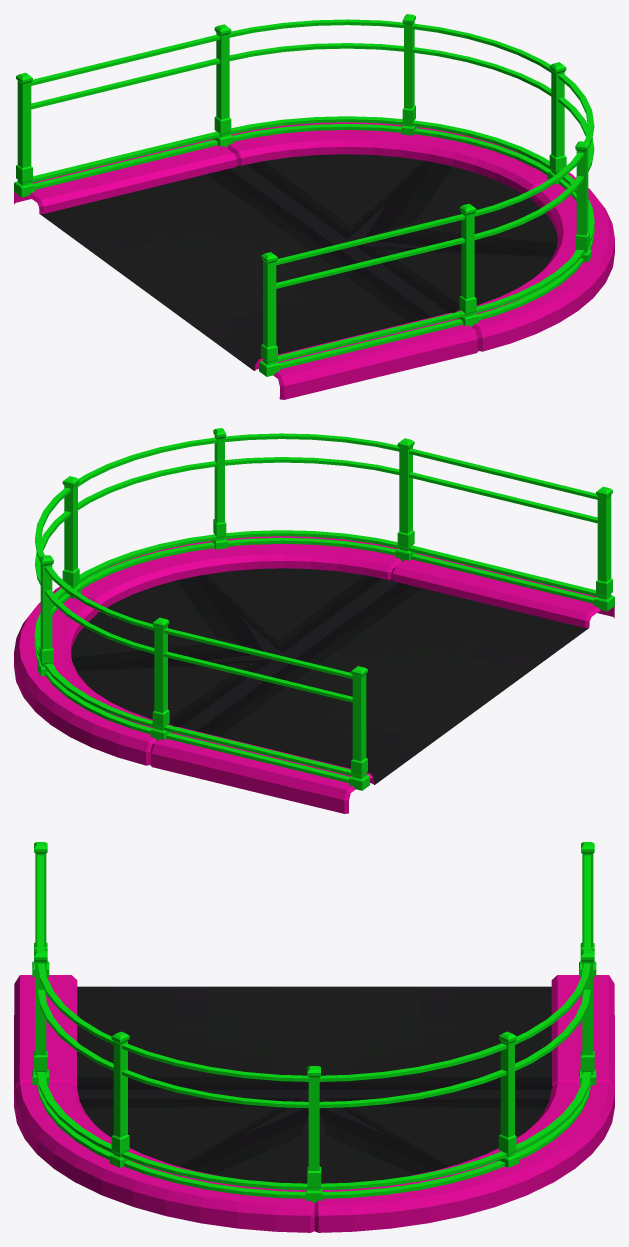
File: City_Fence17.fbx
The picture shows the model from 3 angles, top to bottom: view 1: azimuth 30°, elevation 25°; view 2: azimuth 150°, elevation 25°; view 3: azimuth 270°, elevation 25°; orthographic projection. The views are drawn at different scales.
Parts seen in each view (by area): view 1: SM_City_Fence_05_Divider_01c.mo; view 2: SM_City_Fence_05_Divider_01c.mo; view 3: SM_City_Fence_05_Divider_01c.mo.
Part boxes in pixels (bbox=[...]): SM_City_Fence_05_Divider_01c.mo: bbox=[14, 14, 614, 399]; SM_City_Fence_05_Divider_01c.mo: bbox=[14, 428, 614, 813]; SM_City_Fence_05_Divider_01c.mo: bbox=[14, 842, 614, 1232].
Bounding box in the file's own units: 332 × 99.47 × 353.
